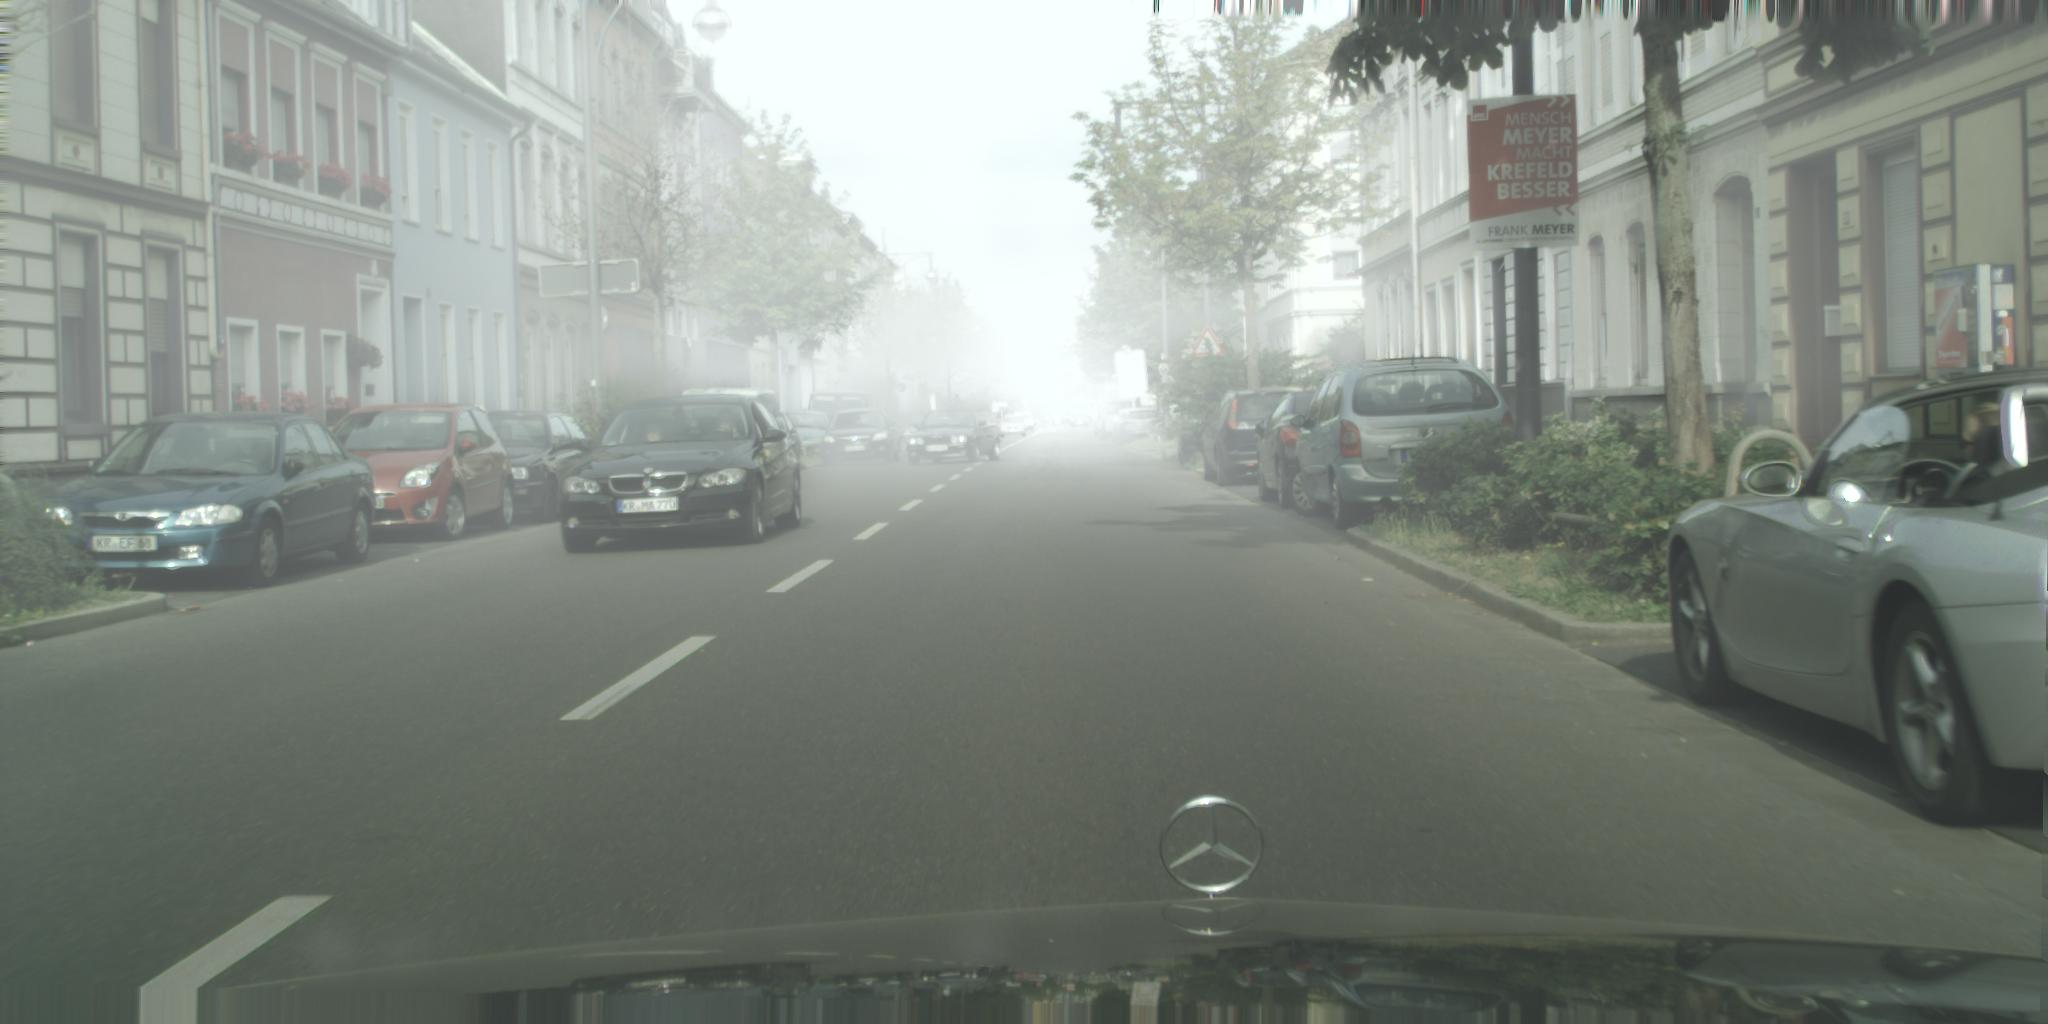car: (1667, 368, 2048, 827), (40, 411, 377, 589), (1287, 357, 1518, 532), (560, 396, 805, 555), (328, 404, 516, 541), (485, 411, 603, 524), (1202, 387, 1319, 486), (1255, 391, 1327, 509), (905, 410, 1002, 466), (822, 409, 903, 468), (808, 391, 886, 434), (784, 411, 835, 462), (899, 415, 933, 439), (973, 413, 1003, 439), (995, 415, 1027, 439), (1015, 411, 1037, 432)
